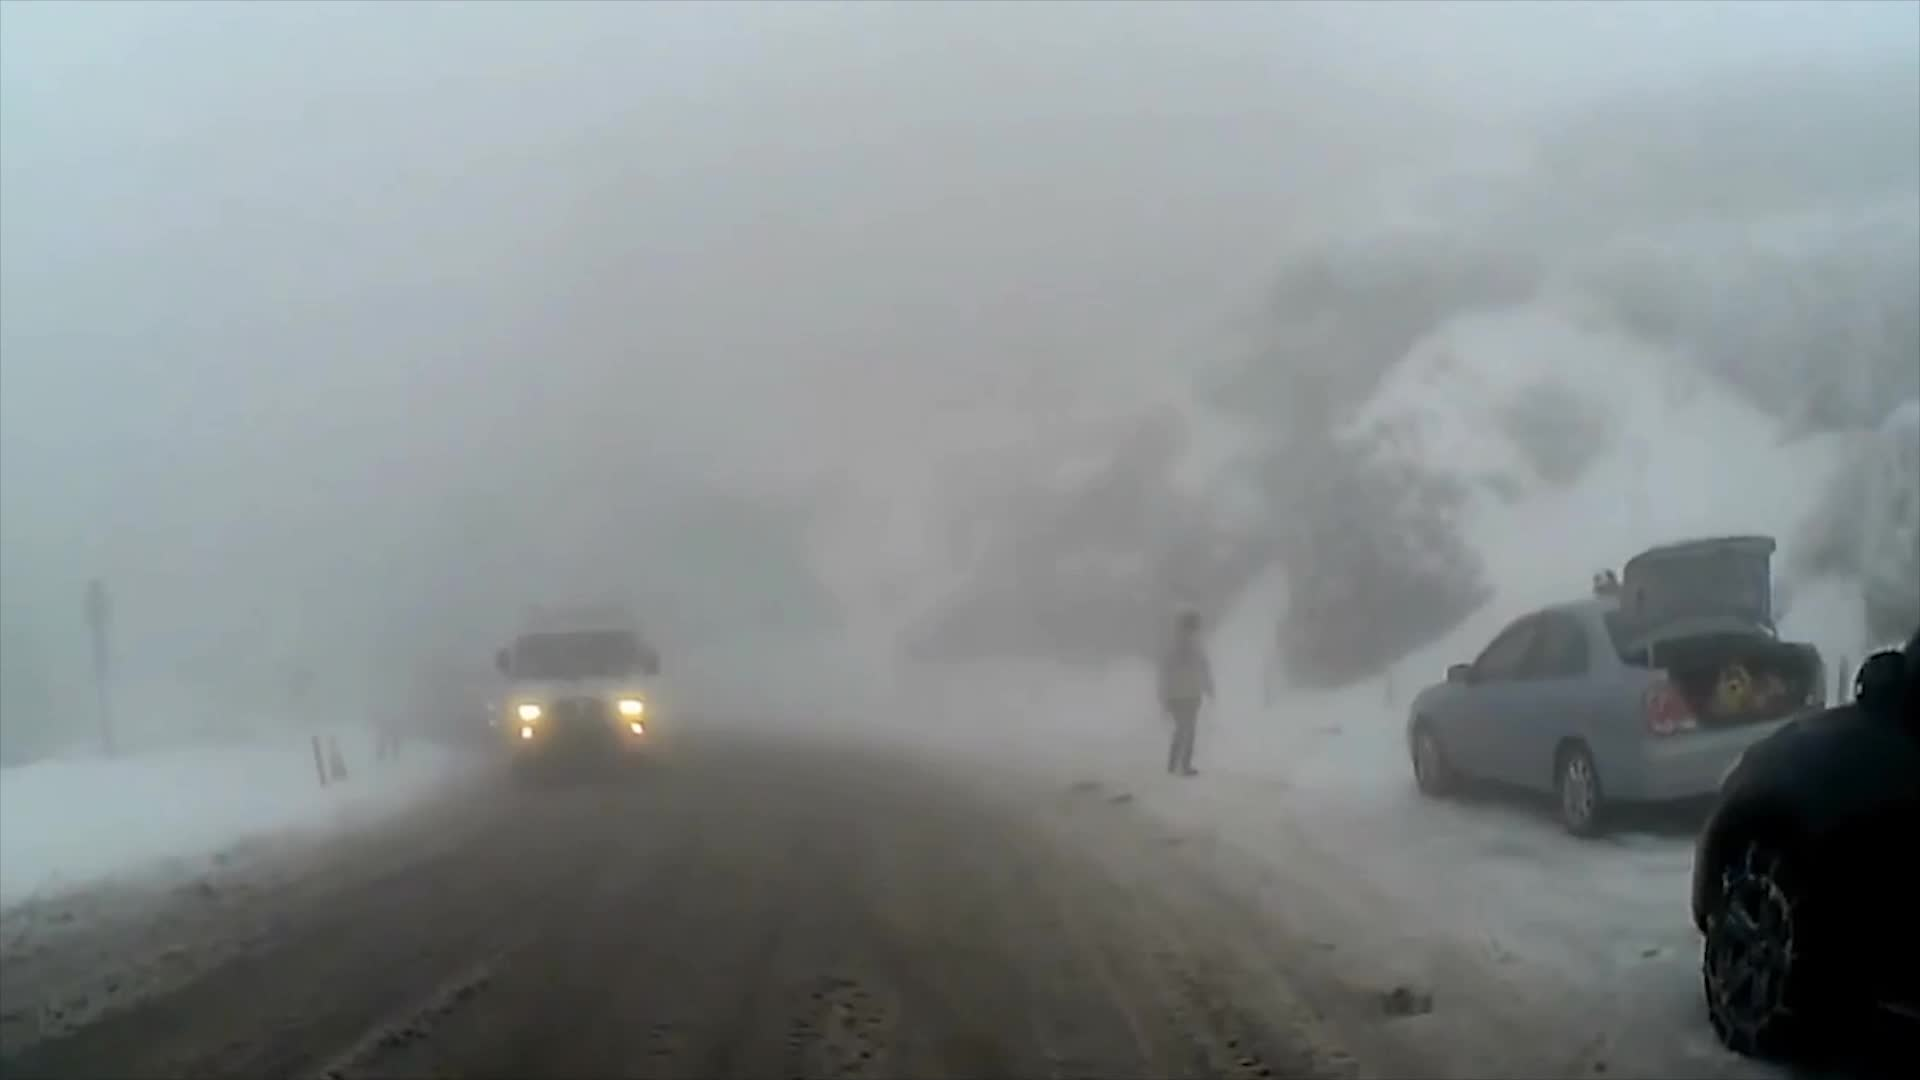pedestrian: (1154, 607, 1215, 777)
vehicle: (1402, 528, 1832, 840), (1686, 629, 1919, 1080), (490, 601, 661, 791)
